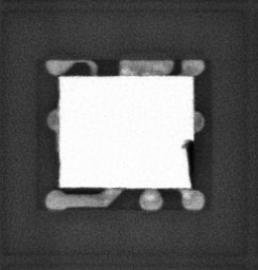DIE_BROKEN: (181, 137, 196, 188)
